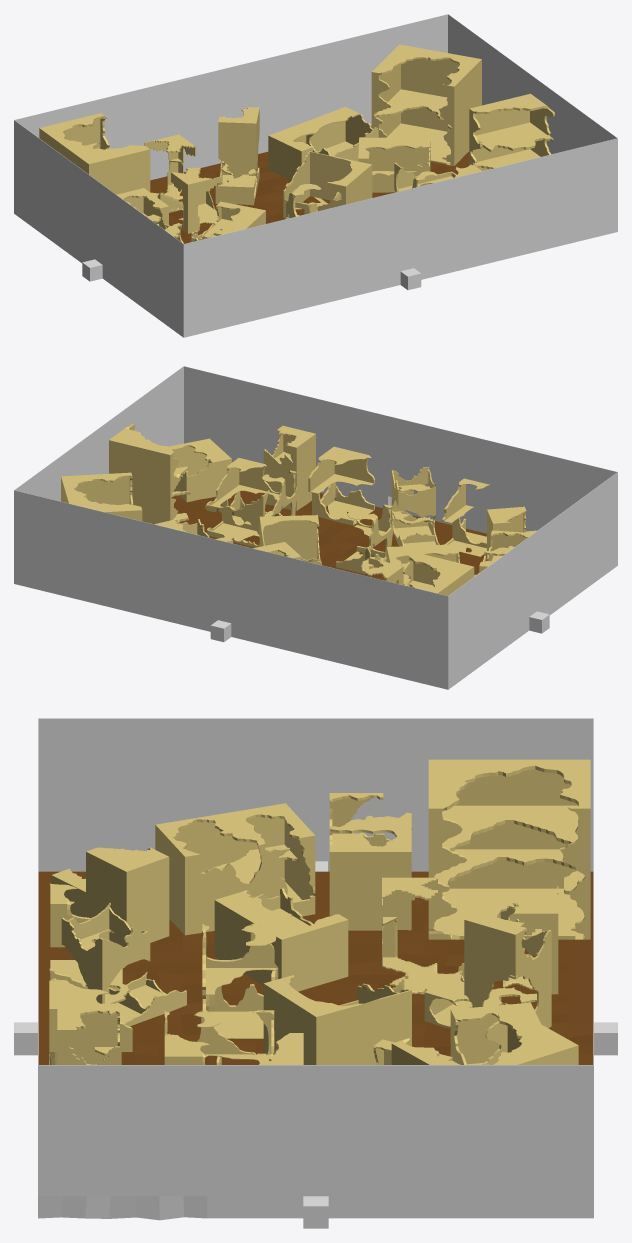
File: Street_Room_2.fbx
3 views of the same model, one above another, from view 1: azimuth 30°, elevation 25°; view 2: azimuth 150°, elevation 25°; view 3: azimuth 270°, elevation 25° (orthographic). The views are drawn at different scales.
Visible parts, largest first — view 1: Room_2, Building14, Building14.002, Building14.001, Building9.001, Building2, Building11.001, Building9.002, Building8.001, Building8, Building9, New_Buildings (+2 smaller); view 2: Room_2, Building14.002, New_Buildings, New_Buildings.001, Building11.002, Building11, Building14, Building9.003, Building2, Building14.001, New_Buildings.003, New_Buildings.002 (+5 smaller); view 3: Room_2, Building14.001, Building1.001, Building11.001, Building1.002, Building2, Building9, Building10, Building11.002, New_Buildings.003, Building14, Building11 (+7 smaller).
Boxes of the visible parts, x1,y1,x2,y2 form: Room_2: (14, 14, 617, 337); Building14: (371, 44, 481, 165); Building14.002: (469, 93, 554, 170); Building14.001: (39, 113, 150, 194); Building9.001: (268, 107, 378, 180); Building2: (283, 151, 372, 217); Building11.001: (215, 107, 259, 205); Building9.002: (358, 137, 430, 192); Building8.001: (169, 167, 222, 233); Building8: (144, 134, 196, 209); Building9: (191, 201, 265, 241); New_Buildings: (394, 162, 482, 192); Room_2: (14, 366, 617, 689); Building14.002: (109, 423, 190, 524); New_Buildings: (205, 458, 296, 547); New_Buildings.001: (308, 446, 374, 525); Building11.002: (391, 467, 439, 546); Building11: (263, 425, 315, 510); Building14: (61, 472, 142, 521); Building9.003: (168, 438, 231, 502); Building2: (259, 515, 321, 565); Building14.001: (402, 552, 474, 595); New_Buildings.003: (336, 504, 393, 576); New_Buildings.002: (442, 478, 489, 556); Room_2: (14, 718, 617, 1228); Building14.001: (428, 759, 590, 939); Building1.001: (155, 803, 315, 935); Building11.001: (424, 898, 551, 1028); Building1.002: (329, 793, 411, 930); Building2: (263, 975, 411, 1064); Building9: (214, 888, 348, 991); Building10: (51, 847, 169, 942); Building11.002: (61, 902, 186, 1026); New_Buildings.003: (202, 923, 278, 1038); Building14: (391, 1006, 578, 1064); Building11: (57, 1003, 119, 1064).
Bounding box in the file's own units: 18025 × 3712 × 12525.
